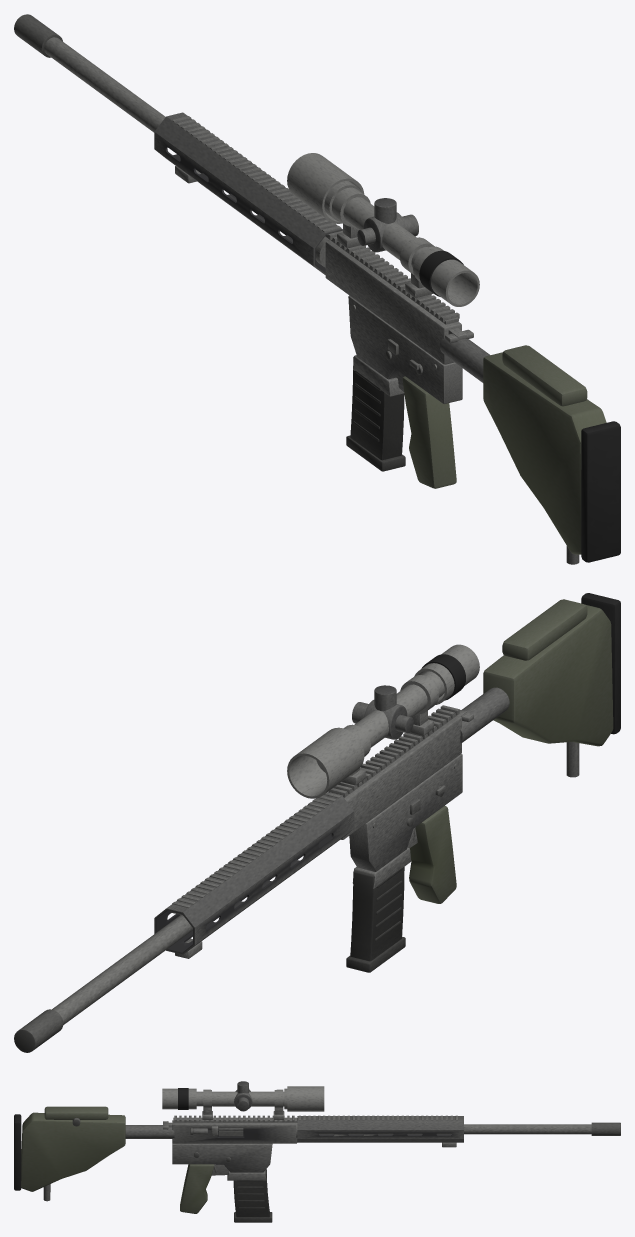
The model's file is SM_WeaponMarksman_LOD1.fbx.
3 views of the same model, one above another, from view 1: azimuth 30°, elevation 25°; view 2: azimuth 150°, elevation 25°; view 3: azimuth 270°, elevation 25° (orthographic). The views are drawn at different scales.
Visible parts, largest first — view 1: SM_WeaponMarksman_LOD1; view 2: SM_WeaponMarksman_LOD1; view 3: SM_WeaponMarksman_LOD1.
Part boxes in pixels (x1,y1,x2,y2): SM_WeaponMarksman_LOD1: (14, 14, 620, 564); SM_WeaponMarksman_LOD1: (14, 593, 620, 1052); SM_WeaponMarksman_LOD1: (14, 1081, 620, 1222).
Bounding box in the file's own units: 0.065 × 0.307 × 1.24.
1 material, 1 textured.
